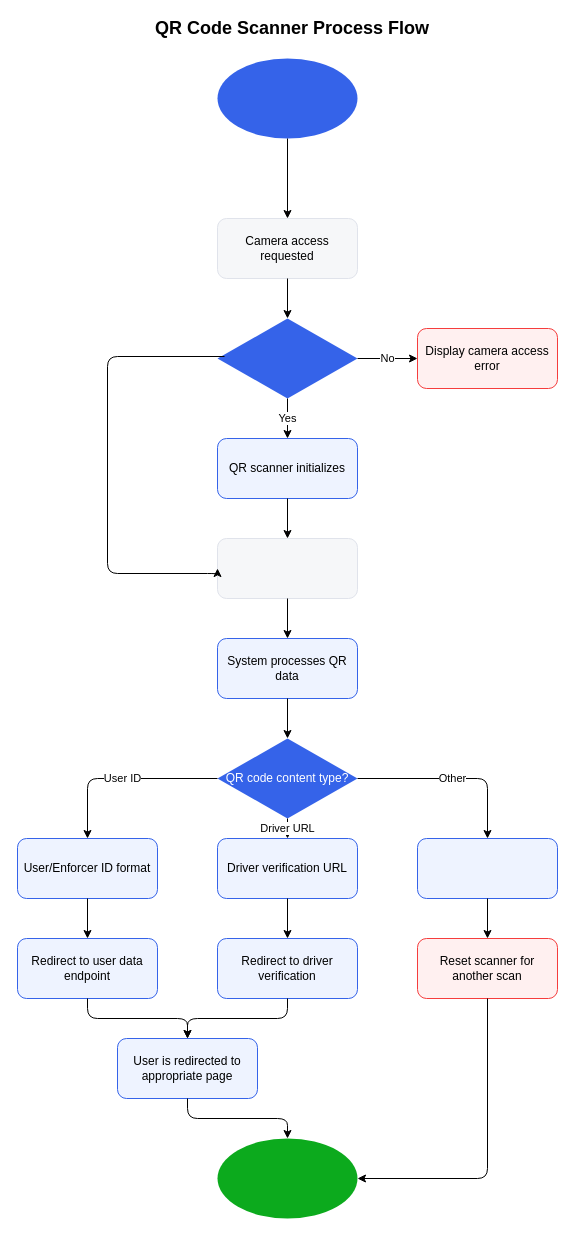
Image size: 575x1235. Some labels were removed from this diagram. Here are the shapes that lost their labels. From the top down, the box of each, then its label:
(217, 58, 357, 138): User visits QR Scanner Page
(217, 318, 357, 398): Camera access granted?
(216, 538, 358, 598): User scans QR code
(416, 838, 558, 898): Other format
(217, 1138, 357, 1218): End
